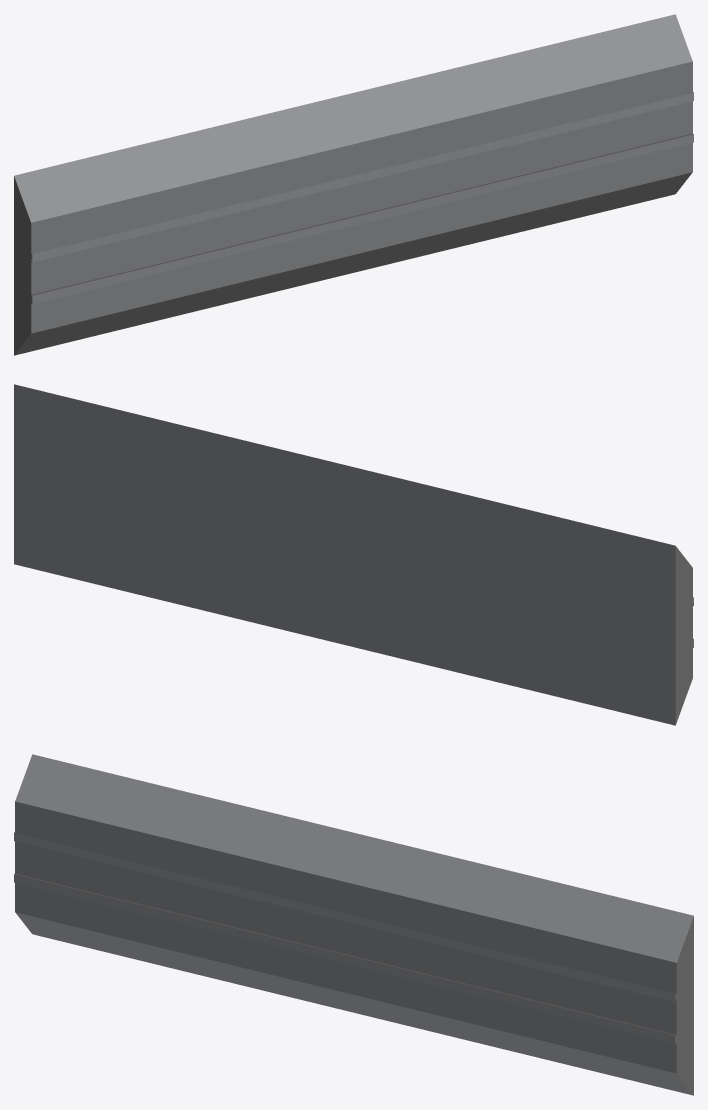
The picture shows the model from 3 angles, top to bottom: view 1: azimuth 30°, elevation 25°; view 2: azimuth 150°, elevation 25°; view 3: azimuth 330°, elevation 25°; orthographic projection.
Size of the model in its own units: 1 by 0.26 by 0.048.
